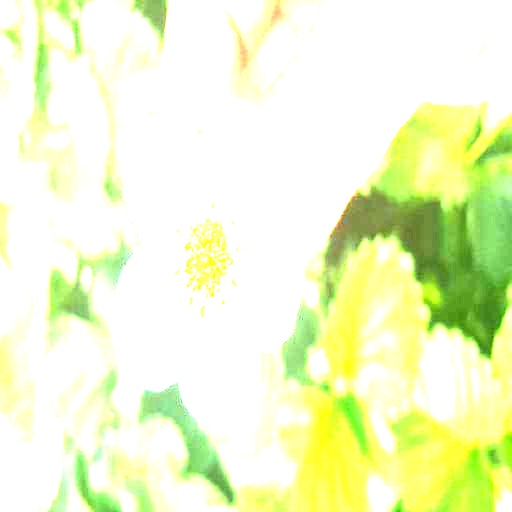Blossom Blight: (162, 184, 248, 326)
